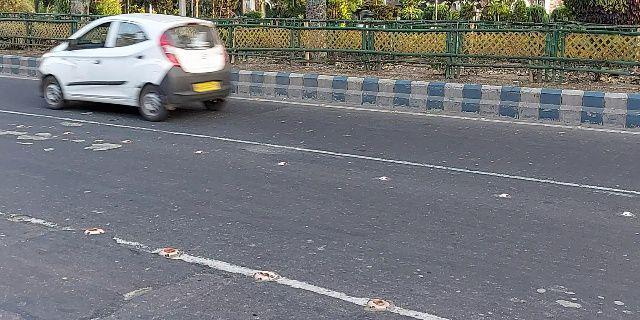Car: (32, 10, 237, 122)
